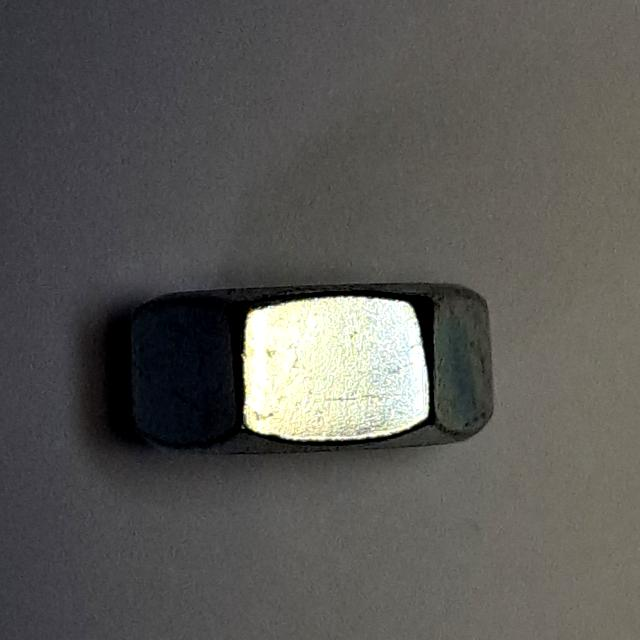Side_Excellent: (117, 265, 508, 481)
